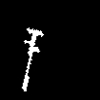double_crochet: (22, 28, 43, 90)
